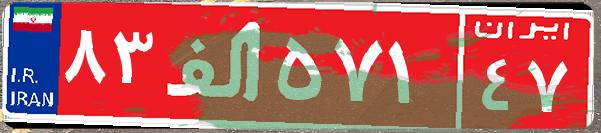1: (385, 28, 445, 110)
3: (110, 28, 158, 105)
4: (475, 38, 525, 113)
5: (273, 28, 330, 110)
7: (330, 28, 385, 110), (525, 38, 570, 115)
8: (57, 26, 110, 107)
الف: (158, 15, 273, 115)
